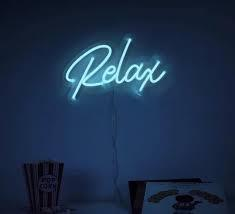Lamp: (60, 32, 171, 104)
